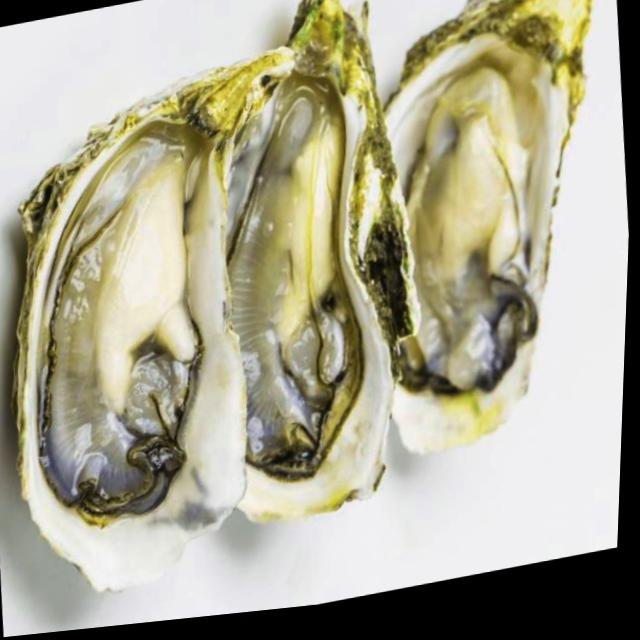Oyster-Open: (14, 47, 292, 590), (227, 0, 417, 520), (385, 0, 592, 452)
